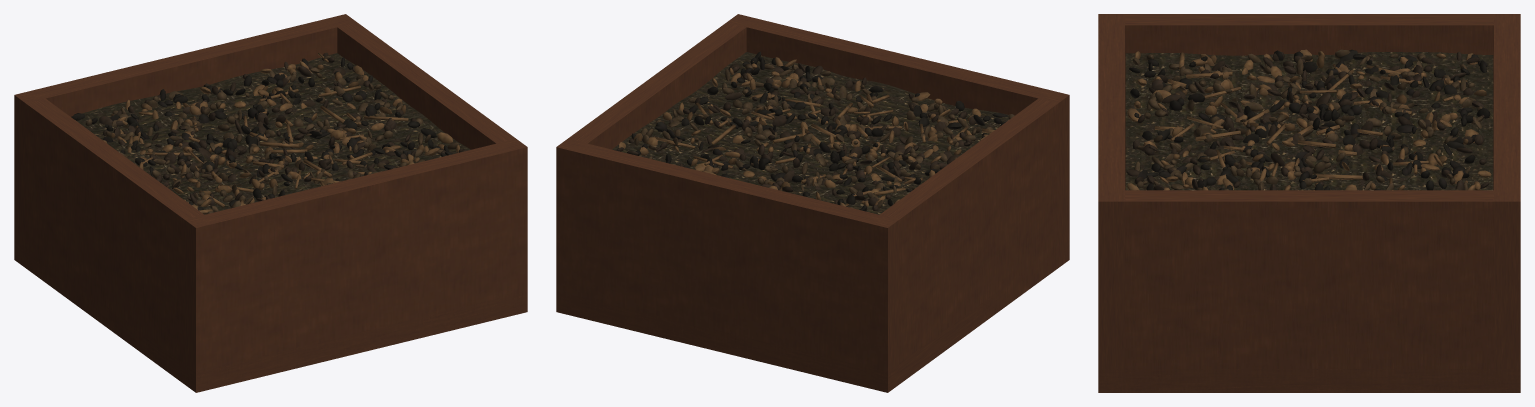
File: minhocas_21_02_web.glb
The picture shows the model from 3 angles, left to right: view 1: azimuth 30°, elevation 25°; view 2: azimuth 150°, elevation 25°; view 3: azimuth 270°, elevation 25°; orthographic projection. The views are drawn at different scales.
Parts seen in each view (by area): view 1: Caixa_de_Madeira, Vermicomposto; view 2: Caixa_de_Madeira, Vermicomposto; view 3: Caixa_de_Madeira, Vermicomposto.
Part boxes in pixels (x1,y1,x2,y2): Caixa_de_Madeira: (14,14,527,392); Vermicomposto: (71,52,470,214); Caixa_de_Madeira: (556,14,1069,392); Vermicomposto: (612,51,1014,214); Caixa_de_Madeira: (1098,14,1520,392); Vermicomposto: (1125,49,1493,190).
Size of the model in its own units: 0.2 by 0.095 by 0.19.
3 materials, 3 textured.
